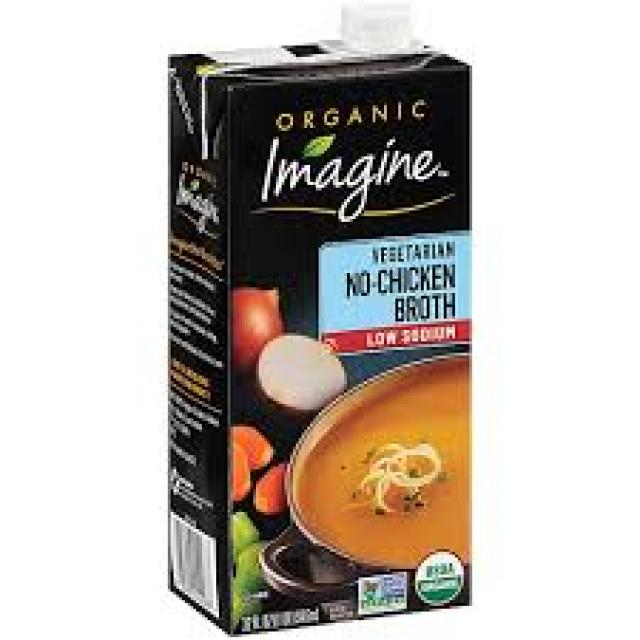non_white_jug: (132, 0, 500, 624)
